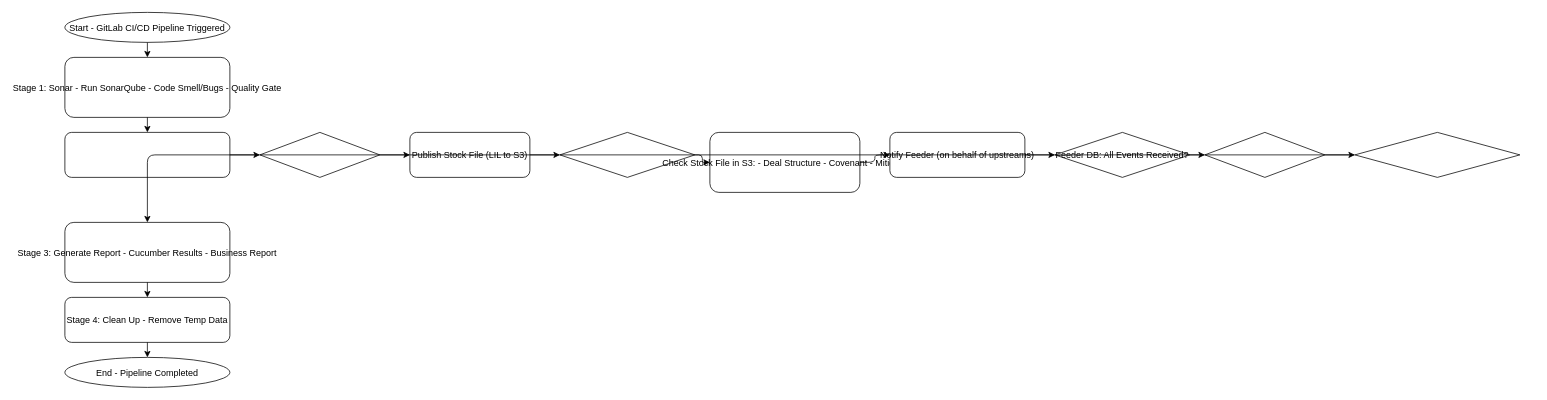
Some shapes in this 1547 by 400 pixel diagram are drawn without their labels. The box of each missing label's shape, as (x1, y1, x2, y2) in pixels:
Feeder: Staging Complete?: (1204, 132, 1325, 177)
Final Check: Stock Published to Fresh Gateway?: (1354, 132, 1520, 177)
Health Check: - LIL & FRF Healthy?: (259, 132, 380, 177)
Stage 2: Run E2E Suite (Stock Feature Flow): (64, 132, 230, 177)
Verify Stock File in S3 (LIL): (559, 132, 695, 177)
